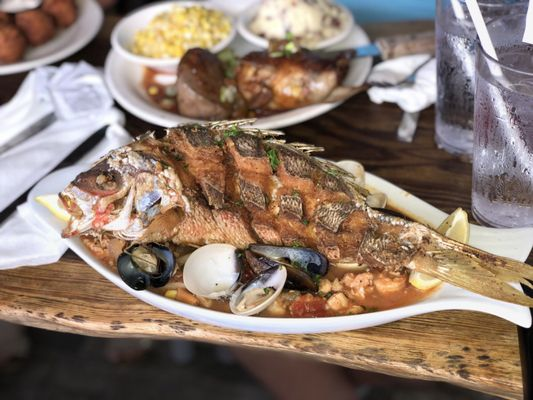pizza: (470, 36, 533, 231)
